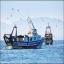fishing boat: (3, 15, 47, 51), (44, 22, 54, 47)
